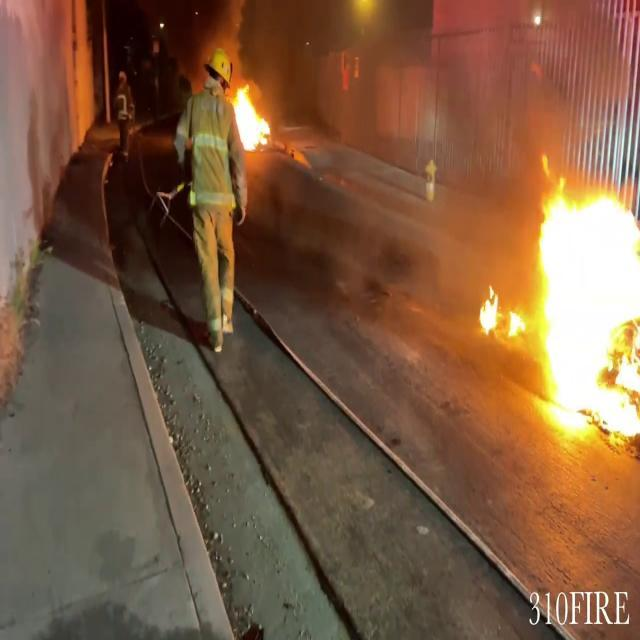Fire: (529, 162, 640, 445), (228, 77, 274, 156), (476, 278, 526, 346)
